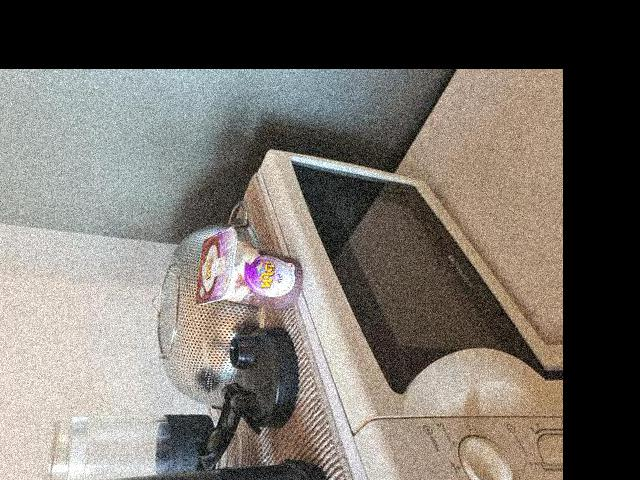milky: (197, 229, 306, 309)
